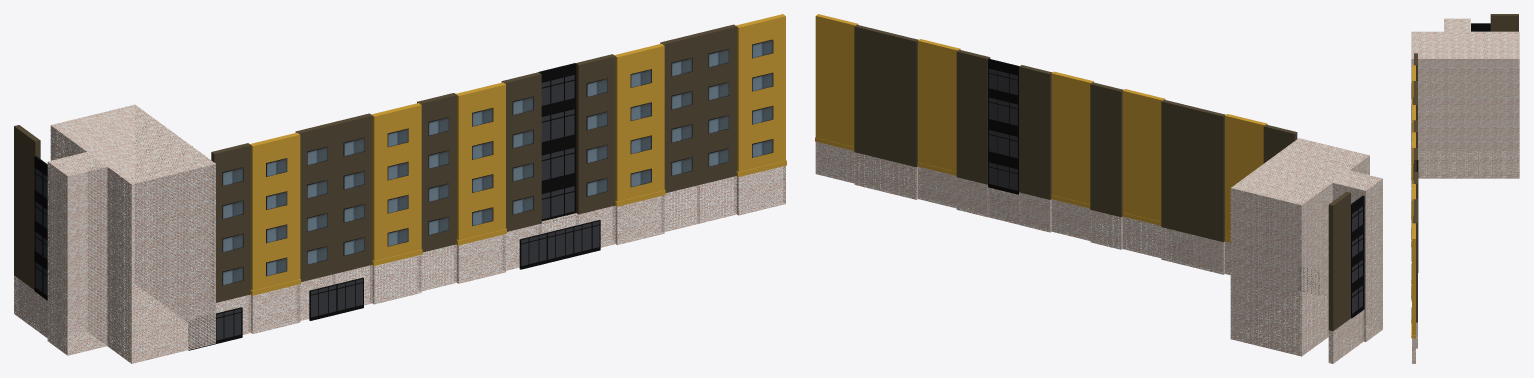
File: camelback_in_back.obj
3 views of the same model, side by side, from view 1: azimuth 30°, elevation 25°; view 2: azimuth 150°, elevation 25°; view 3: azimuth 270°, elevation 25° (orthographic). The views are drawn at different scales.
Visible parts, largest first — view 1: Part32, Part31, Part169, Part69, Part248, Part138, Part109, Part81, Part260, Part181, Part150, Part60 (+28 smaller); view 2: Part32, Part109, Part138, Part169, Part69, Part160, Part60, Part100, Part239, Part81, Part150, Part181 (+21 smaller); view 3: Part32, Part31, Part1, Part138, Part150, Part8, Part109, Part69, Part248, Part130.
Part boxes in pixels (box(x1,y1,x2,y2)): Part32: box(50, 104, 215, 363); Part31: box(47, 151, 109, 355); Part169: box(371, 103, 421, 260); Part69: box(614, 43, 664, 201); Part248: box(250, 132, 300, 290); Part138: box(736, 14, 785, 171); Part109: box(456, 82, 505, 240); Part81: box(575, 54, 615, 214); Part260: box(211, 143, 251, 302); Part181: box(333, 113, 372, 273); Part150: box(697, 24, 736, 184); Part60: box(660, 33, 700, 192); Part32: box(1230, 138, 1369, 356); Part109: box(1051, 71, 1093, 204); Part138: box(815, 14, 858, 146); Part169: box(1122, 89, 1165, 221); Part69: box(918, 39, 960, 171); Part160: box(1090, 82, 1123, 217); Part60: box(885, 32, 918, 167); Part100: box(1019, 65, 1052, 199); Part239: box(1192, 107, 1225, 242); Part81: box(956, 49, 990, 184); Part150: box(854, 24, 887, 159); Part181: box(1161, 99, 1194, 234); Part32: box(1411, 31, 1519, 178); Part31: box(1444, 18, 1470, 151); Part1: box(1490, 14, 1518, 111); Part138: box(1412, 223, 1415, 334); Part150: box(1414, 211, 1417, 322); Part8: box(1471, 23, 1490, 31); Part109: box(1412, 132, 1415, 183); Part69: box(1412, 184, 1415, 223); Part248: box(1412, 65, 1415, 104); Part130: box(1412, 338, 1415, 363).
Bounding box in the file's own units: 263 × 68.55 × 53.2.
9 materials, 3 textured.
